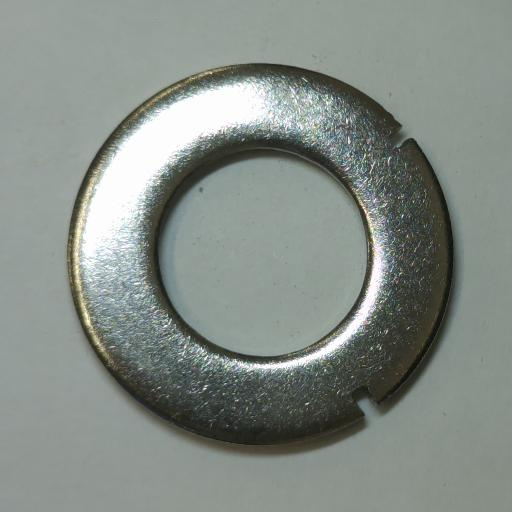burr: (350, 385, 380, 417), (386, 124, 413, 150)
